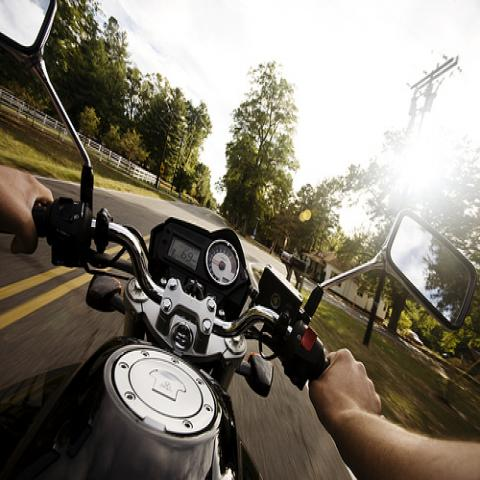motorcycle: (1, 2, 477, 473)
